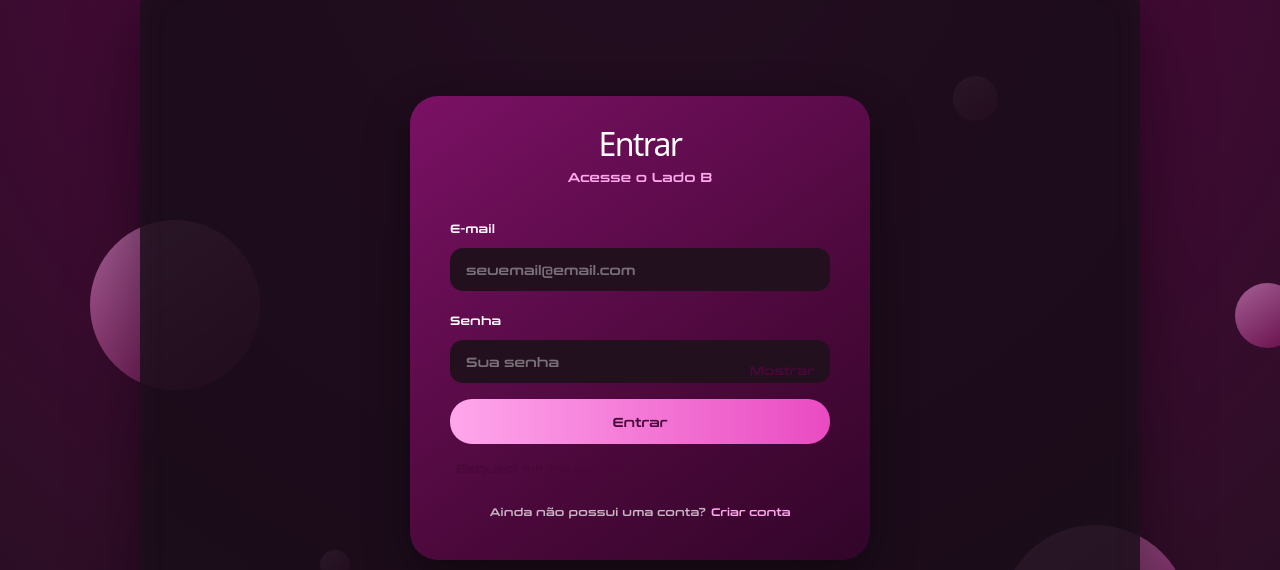
it: Entrar › login válido leva à página de informações
Step 1. Type "maria@x.com" into the field with placeholder "seuemail@email.com" → x=640, y=270, box left=450, top=248, right=830, bottom=291
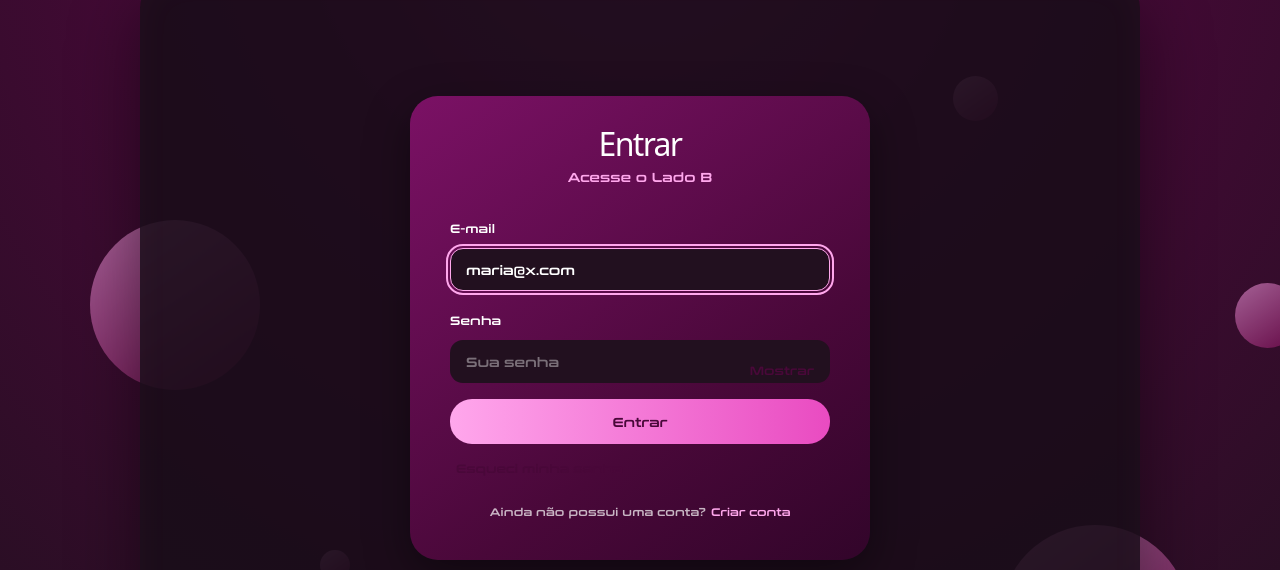
Step 2. Type "123456" into the password field with placeholder "Sua senha" → x=640, y=362, box left=450, top=340, right=830, bottom=383
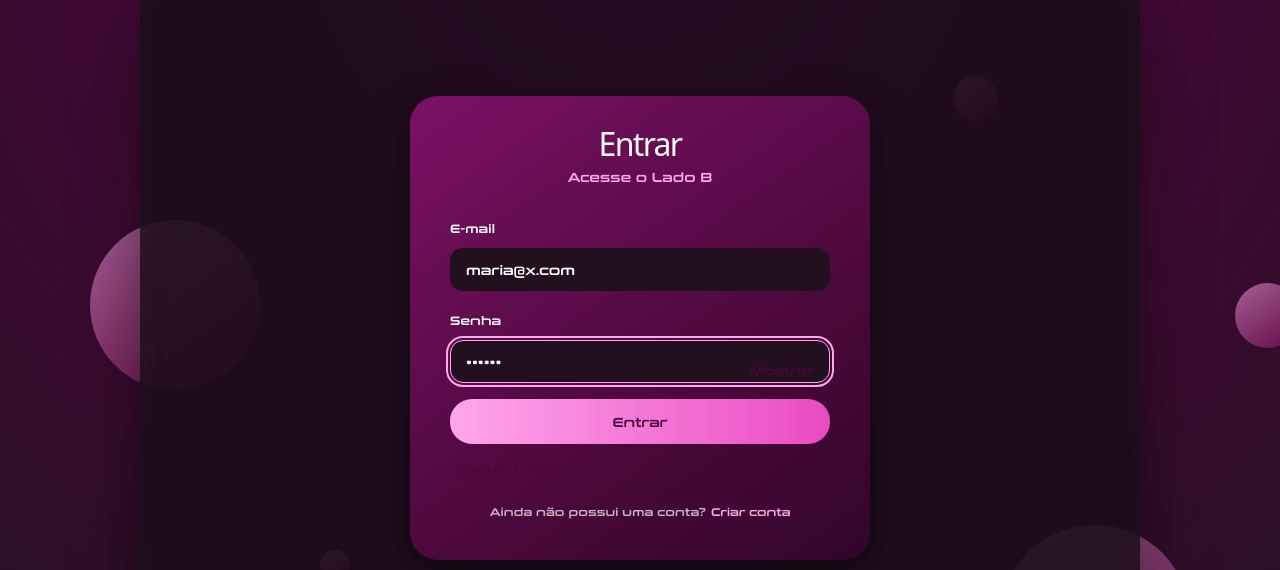
Step 3. Click the button "Entrar" → x=640, y=422, box left=450, top=399, right=830, bottom=444
(page scrolled)
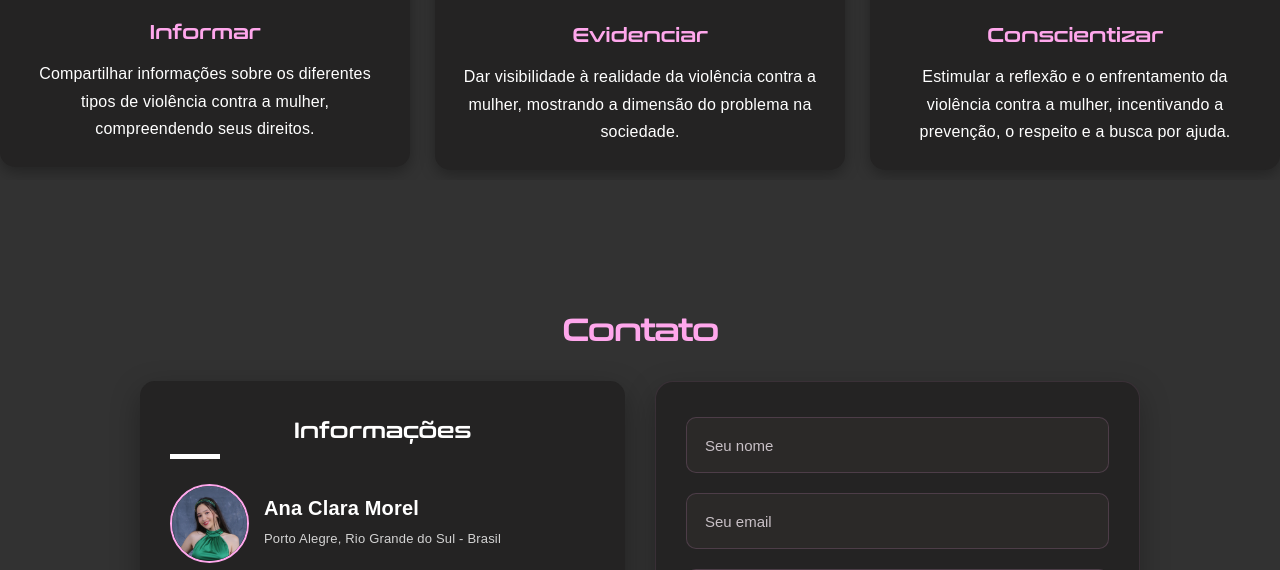
Now the heading "Contato" is shown, box left=562, top=305, right=718, bottom=350
